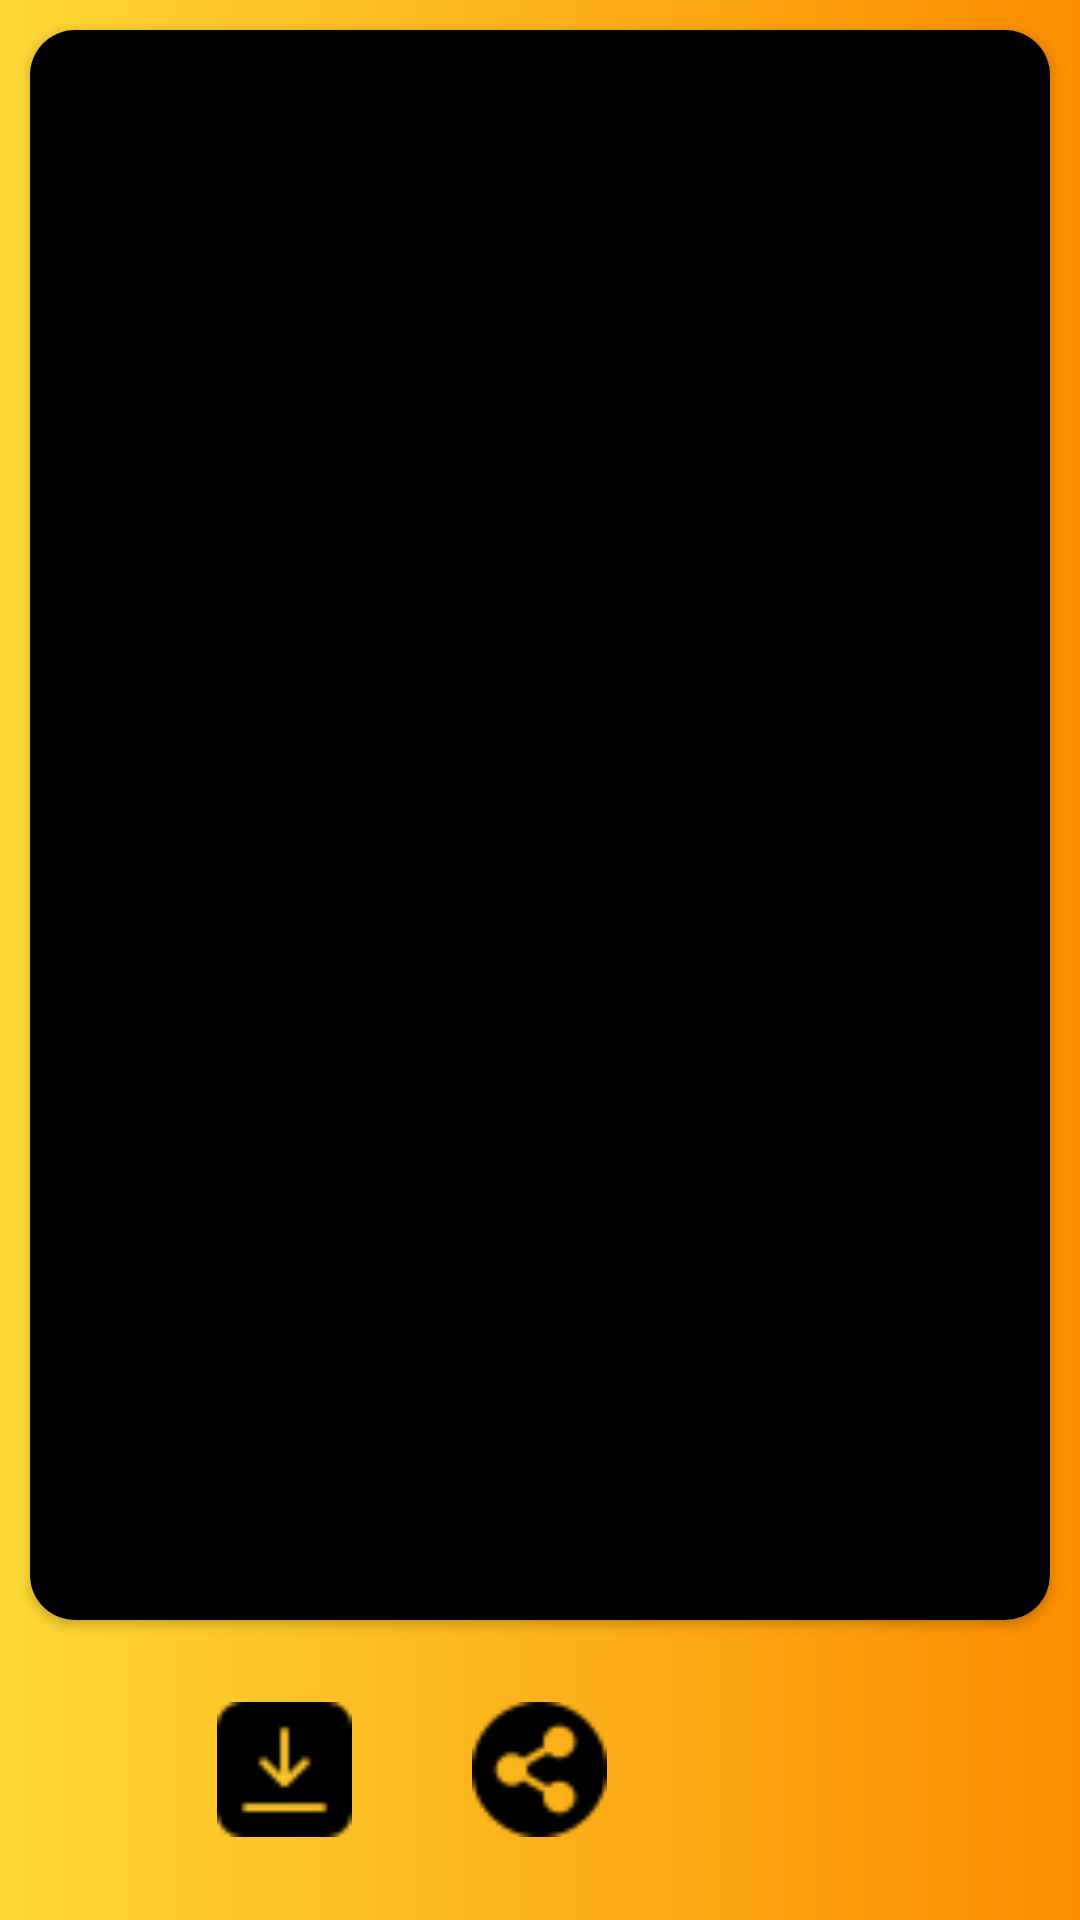

Icon click points for this 1080px x 1920px phone screenshot, format [x,y]:
download: [284,1769]
share: [539,1769]
